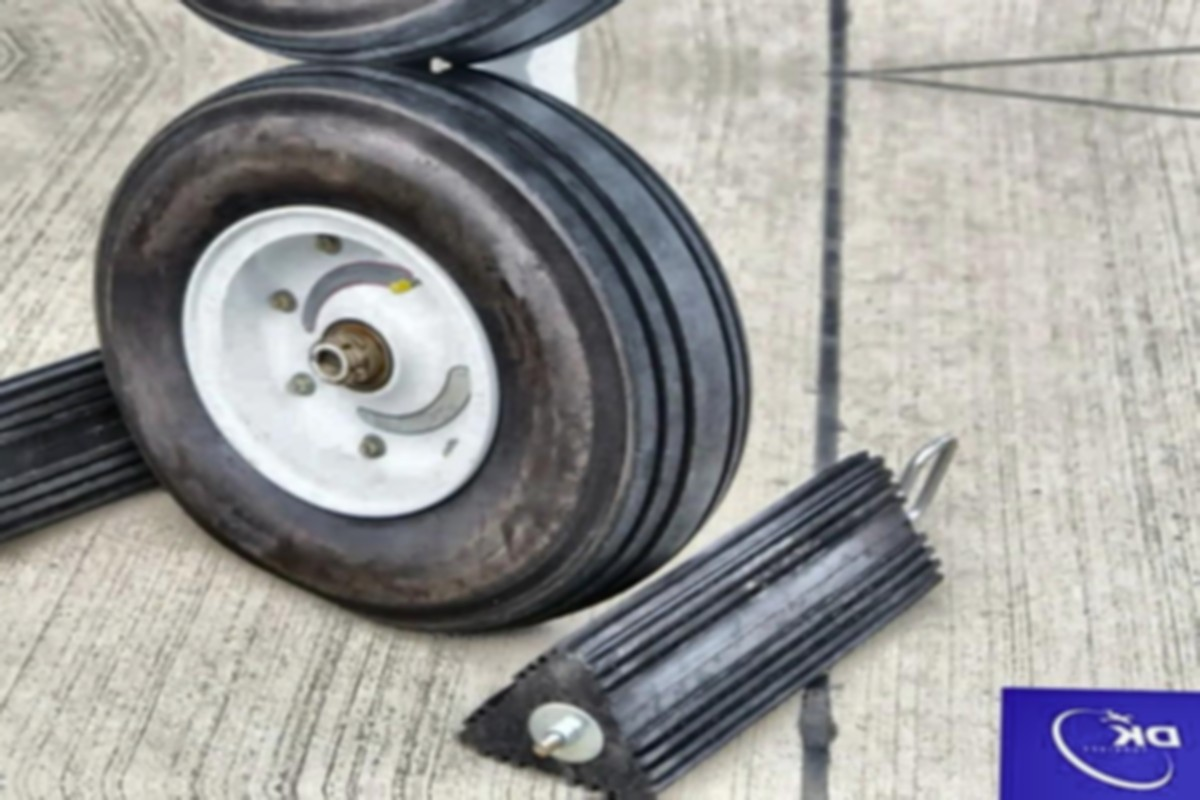chock: (453, 438, 1009, 800), (0, 315, 216, 569)
wheel: (88, 58, 751, 635)
